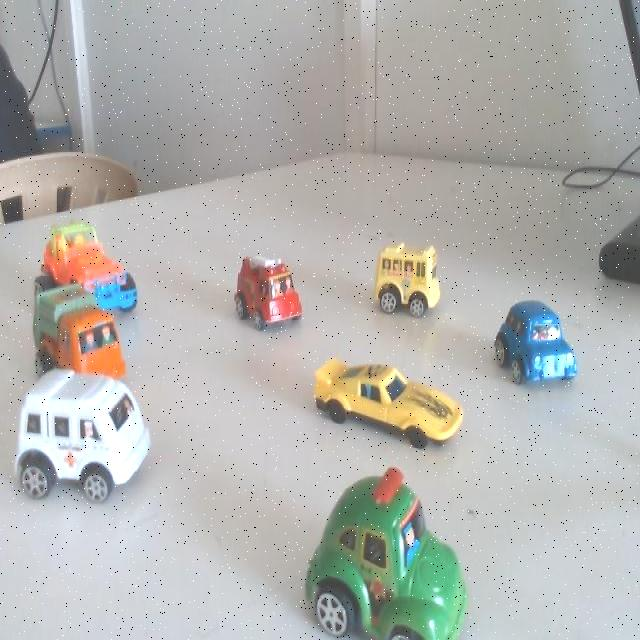car: (22, 345, 170, 528), (324, 481, 474, 639), (327, 344, 455, 462), (63, 216, 144, 319), (368, 238, 451, 334), (229, 242, 302, 348), (51, 276, 116, 391), (507, 298, 579, 392)
